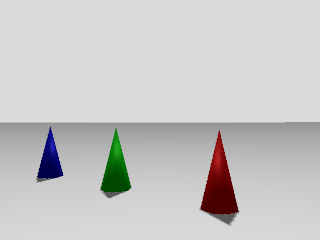blue: (37, 125, 64, 177)
green: (100, 128, 132, 193)
red: (198, 128, 241, 214)
